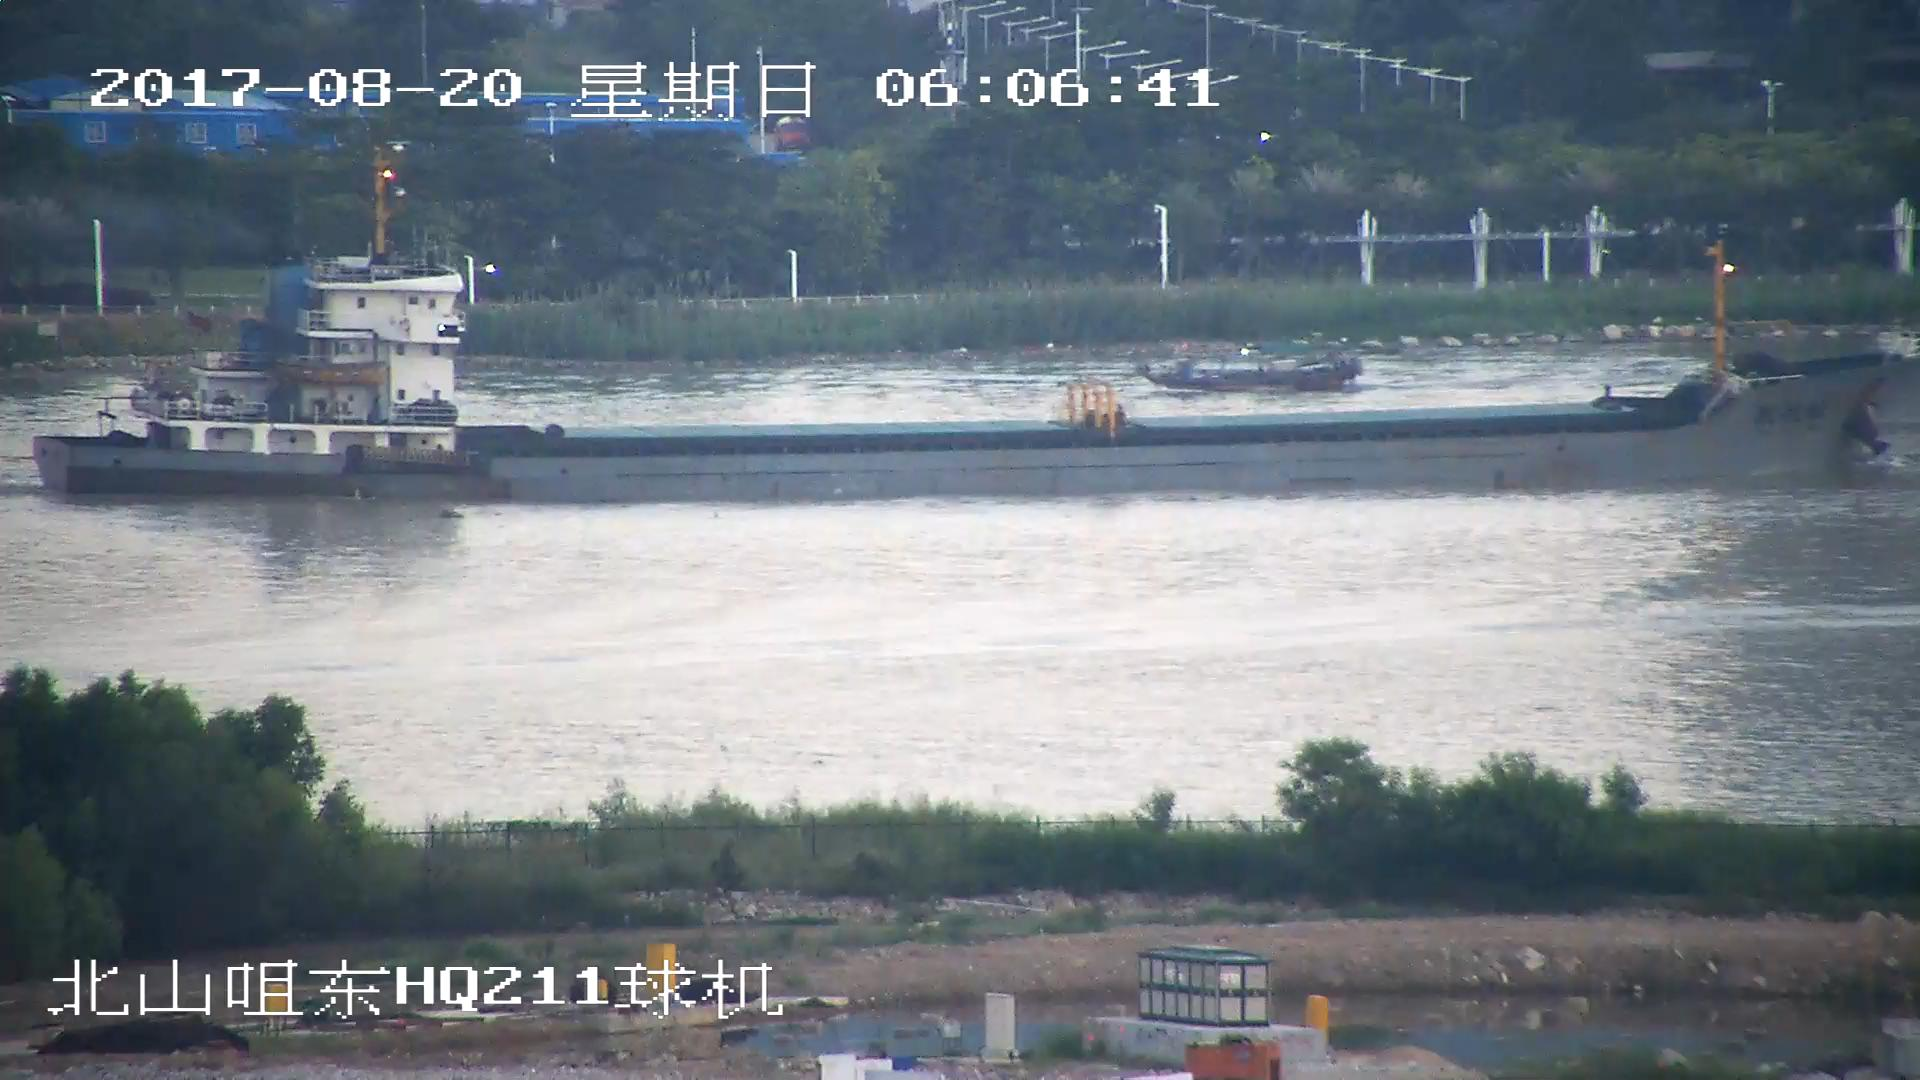fishing boat: (1145, 358, 1369, 392)
general cargo ship: (39, 192, 1891, 494)
